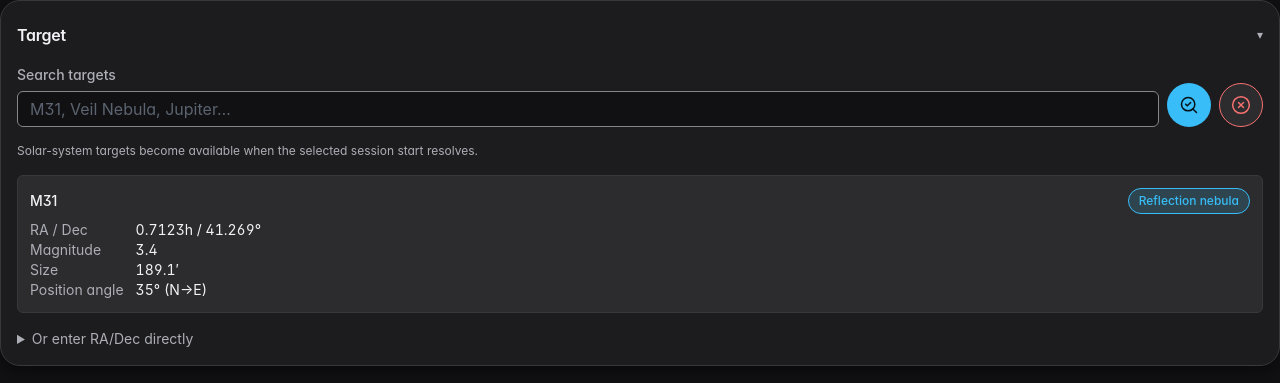
TargetPicker › shows human-readable observing classes instead of catalogue type keys
Expected: the text "Reflection nebula" is shown, top-left (1128, 188), bottom-right (1250, 214)
In the dropdown labelled "Search targets": (588, 109) top-left (17, 91), bottom-right (1159, 127), type "Andr"
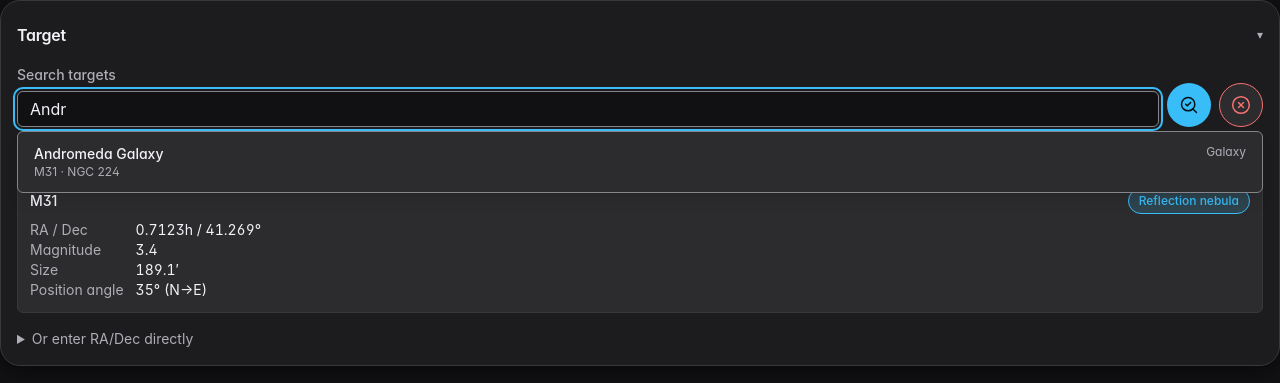
Expected: the option "Andromeda Galaxy M31 · NGC 224 Galaxy" does not show "galaxy_spiral", top-left (22, 136), bottom-right (1258, 188)
Expected: the option "Andromeda Galaxy M31 · NGC 224 Galaxy" is shown, top-left (22, 136), bottom-right (1258, 188)
